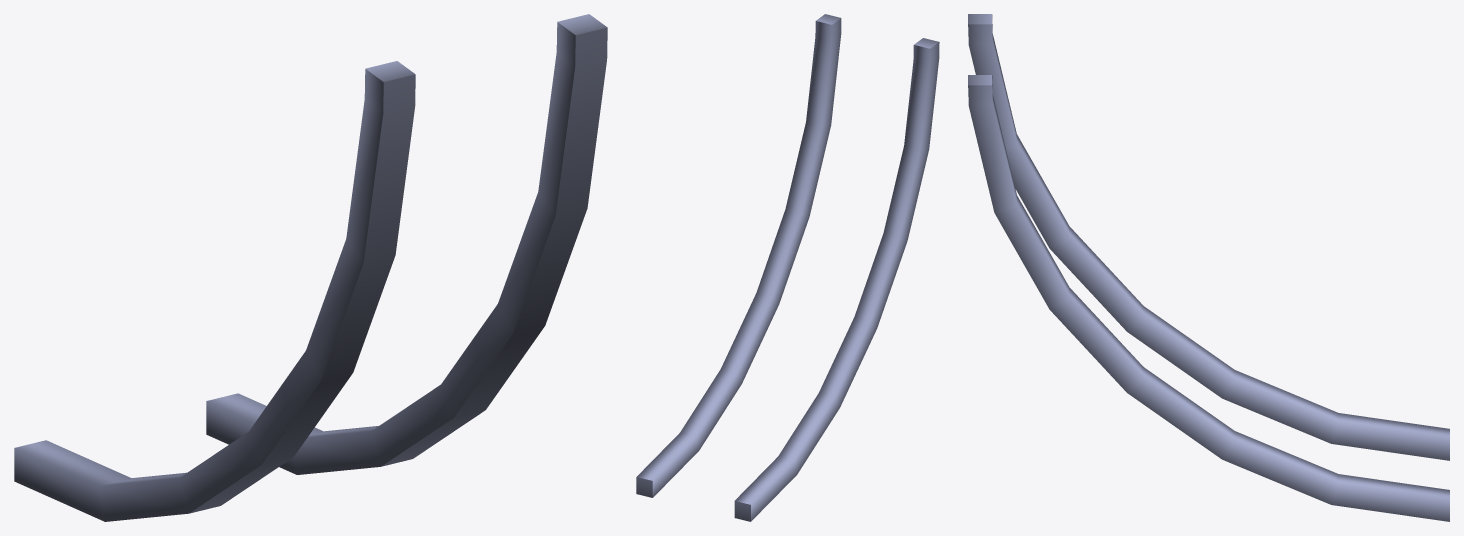
The model's file is railroad-rail-straight-bend.glb.
3 renders of one model, left to right at view 1: azimuth 30°, elevation 25°; view 2: azimuth 150°, elevation 25°; view 3: azimuth 270°, elevation 25°, orthographic. The views are drawn at different scales.
Visible parts, largest first — view 1: railroad-rail-straight-bend; view 2: railroad-rail-straight-bend; view 3: railroad-rail-straight-bend.
Boxes of the visible parts, left/top/right/bottom form: railroad-rail-straight-bend: left=14, top=14, right=607, bottom=521; railroad-rail-straight-bend: left=636, top=14, right=939, bottom=521; railroad-rail-straight-bend: left=968, top=14, right=1449, bottom=521.
Size of the model in its own units: 0.7 by 2 by 2.
